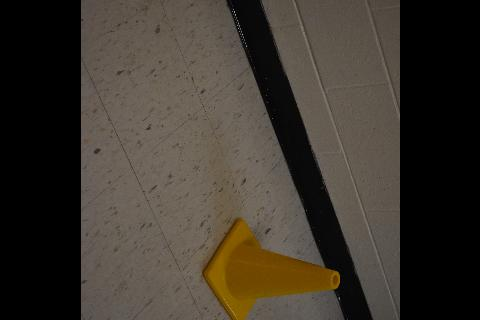cone: (202, 218, 338, 320)
